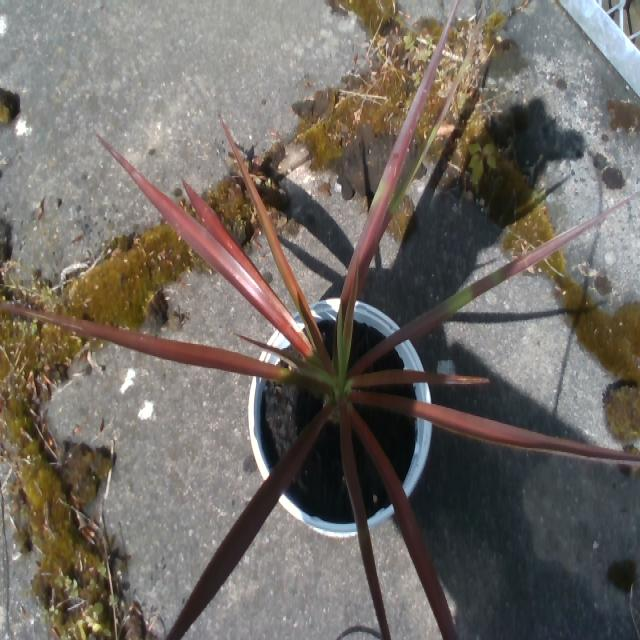Yucca-aloifolia: (351, 192, 639, 373), (99, 136, 310, 353), (166, 405, 333, 639), (341, 0, 459, 300), (221, 117, 332, 372), (349, 405, 457, 639), (0, 303, 287, 379), (352, 391, 639, 465), (389, 23, 479, 213), (184, 180, 292, 323), (340, 403, 389, 639), (352, 369, 488, 389)
